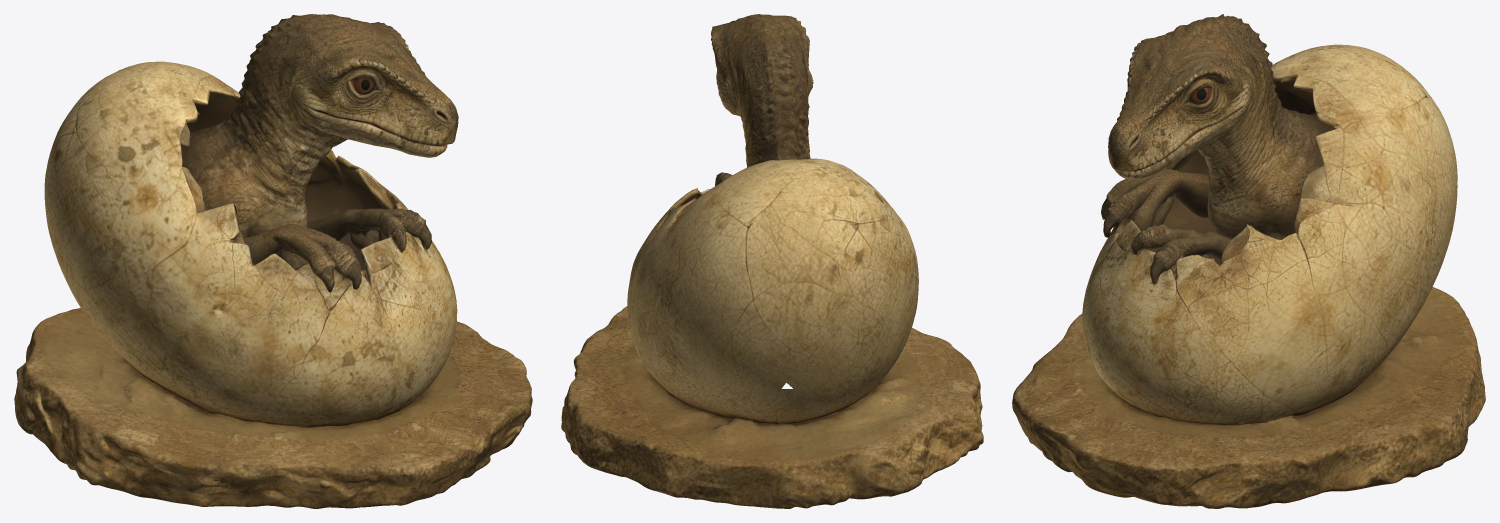
The model's file is baby_dinosaur_hatching.glb.
The picture shows the model from 3 angles, left to right: view 1: azimuth 30°, elevation 25°; view 2: azimuth 150°, elevation 25°; view 3: azimuth 270°, elevation 25°; orthographic projection. The views are drawn at different scales.
Visible parts, largest first — view 1: tripo_node_b3ba6629-dda6-423f-959e-f70f9d9dd8c6; view 2: tripo_node_b3ba6629-dda6-423f-959e-f70f9d9dd8c6; view 3: tripo_node_b3ba6629-dda6-423f-959e-f70f9d9dd8c6.
Part boxes in pixels (x1=…): tripo_node_b3ba6629-dda6-423f-959e-f70f9d9dd8c6: x1=14, y1=14, x2=532, y2=508; tripo_node_b3ba6629-dda6-423f-959e-f70f9d9dd8c6: x1=561, y1=14, x2=983, y2=508; tripo_node_b3ba6629-dda6-423f-959e-f70f9d9dd8c6: x1=1012, y1=14, x2=1485, y2=508.
Bounding box in the file's own units: 0.9802 × 0.9359 × 0.9798.
1 material, 1 textured.
